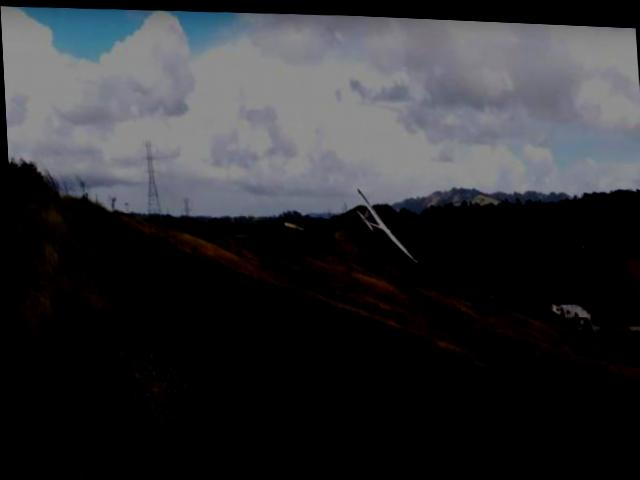iha: (352, 183, 417, 260)
